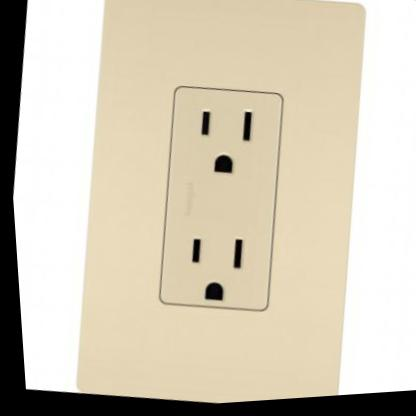OUTLET: (48, 0, 391, 413)
